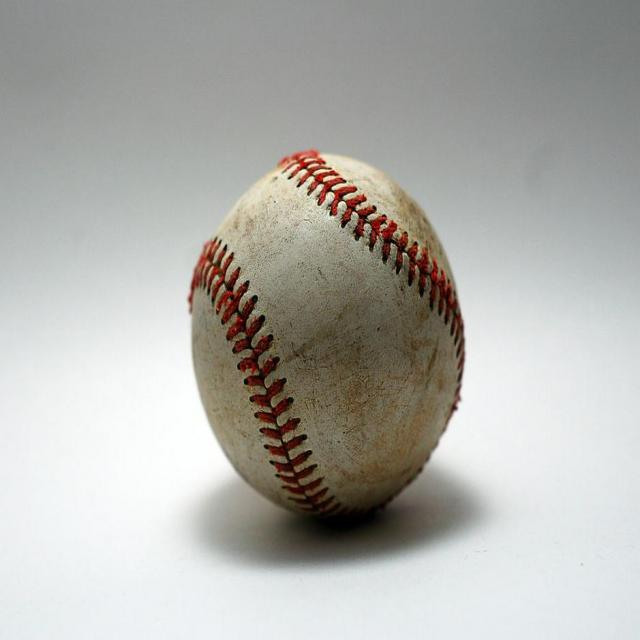baseball: (186, 144, 466, 529)
